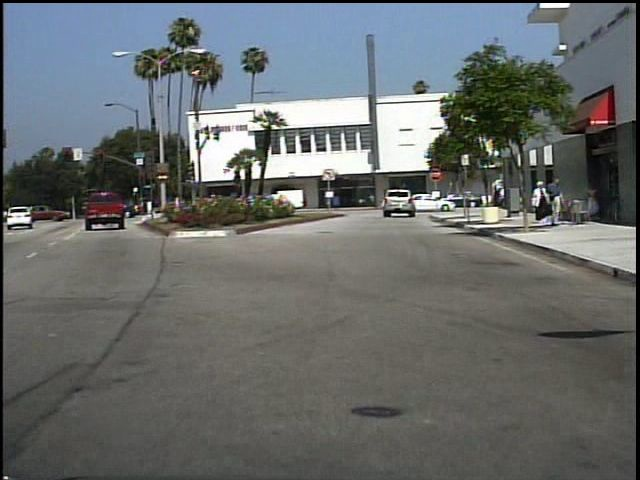person: (546, 175, 566, 232), (484, 182, 508, 214), (583, 180, 599, 223), (533, 179, 548, 223), (370, 189, 391, 217)
